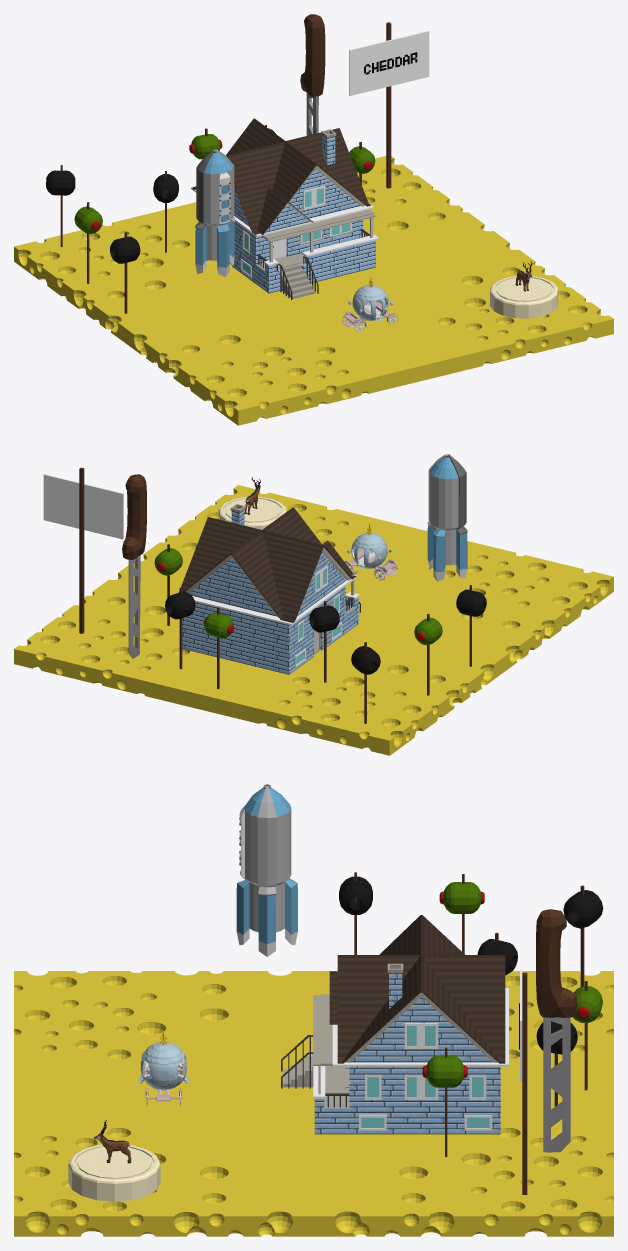
3 renders of one model, top to bottom at view 1: azimuth 30°, elevation 25°; view 2: azimuth 150°, elevation 25°; view 3: azimuth 270°, elevation 25°, orthographic. The views are drawn at different scales.
Visible parts, largest first — view 1: Cube.022, Cube.547, Cube.023, OBJRANDOM_ROCKETSHIP, Cylinder.016, Cube.024, VEHICLES_FANTASY_CARRIAGE, Sphere.017, Sphere.016, Sphere.018, Sphere.020, Sphere.022 (+1 smaller); view 2: Cube.022, Cube.547, Cube.023, OBJRANDOM_ROCKETSHIP, Cube.024, VEHICLES_FANTASY_CARRIAGE, Cylinder.016, Sphere.021, Sphere.017, Sphere.020, Sphere.016, Sphere.022 (+2 smaller); view 3: Cube.022, Cube.547, OBJRANDOM_ROCKETSHIP, Cube.024, Cylinder.016, VEHICLES_FANTASY_CARRIAGE, Cube.023, Sphere.016, Sphere.019, Sphere.018, Sphere.017, Sphere.022 (+2 smaller).
Boxes of the visible parts, x1,y1,x2,y2 form: Cube.022: (14, 156, 613, 425); Cube.547: (191, 118, 378, 300); Cube.023: (349, 22, 429, 188); OBJRANDOM_ROCKETSHIP: (195, 149, 235, 277); Cylinder.016: (490, 276, 558, 318); Cube.024: (300, 14, 325, 135); VEHICLES_FANTASY_CARRIAGE: (341, 276, 398, 332); Sphere.017: (110, 232, 140, 313); Sphere.016: (46, 165, 75, 246); Sphere.018: (74, 202, 102, 283); Sphere.020: (153, 171, 178, 252); Sphere.022: (189, 128, 222, 159); Cube.022: (14, 485, 613, 755); Cube.547: (178, 504, 360, 674); Cube.023: (43, 467, 123, 633); OBJRANDOM_ROCKETSHIP: (427, 454, 467, 581); Cube.024: (122, 474, 146, 658); VEHICLES_FANTASY_CARRIAGE: (344, 523, 398, 580); Cylinder.016: (218, 496, 286, 529); Sphere.021: (165, 587, 195, 668); Sphere.017: (456, 585, 486, 666); Sphere.020: (309, 601, 339, 682); Sphere.016: (351, 642, 380, 723); Sphere.022: (203, 607, 234, 689); Cube.022: (14, 971, 613, 1236); Cube.547: (281, 915, 508, 1134); OBJRANDOM_ROCKETSHIP: (236, 784, 297, 956); Cube.024: (536, 909, 577, 1152); Cylinder.016: (68, 1144, 160, 1201); VEHICLES_FANTASY_CARRIAGE: (138, 1031, 189, 1105); Cube.023: (519, 969, 527, 1194); Sphere.016: (563, 885, 603, 986); Sphere.019: (422, 1047, 467, 1156); Sphere.018: (439, 874, 484, 953); Sphere.017: (339, 872, 372, 954); Sphere.022: (573, 981, 602, 1090).
Bounding box in the file's own units: 3917 × 2010 × 4000.
33 materials, 4 textured.
